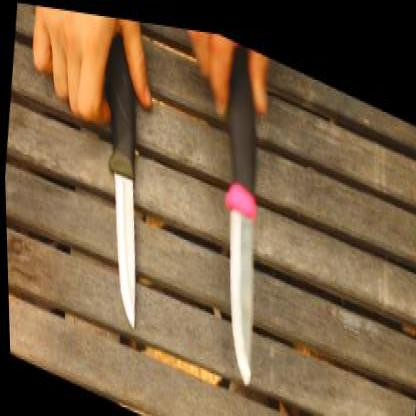knife: (178, 41, 282, 396), (50, 39, 164, 347)
